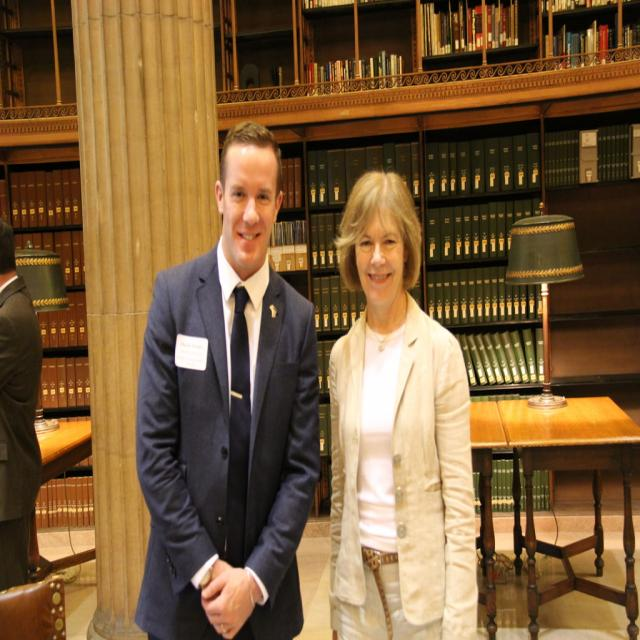chair: (1, 574, 67, 638)
desk: (460, 368, 638, 608)
person: (136, 123, 321, 638), (326, 165, 479, 630), (0, 218, 45, 588)
